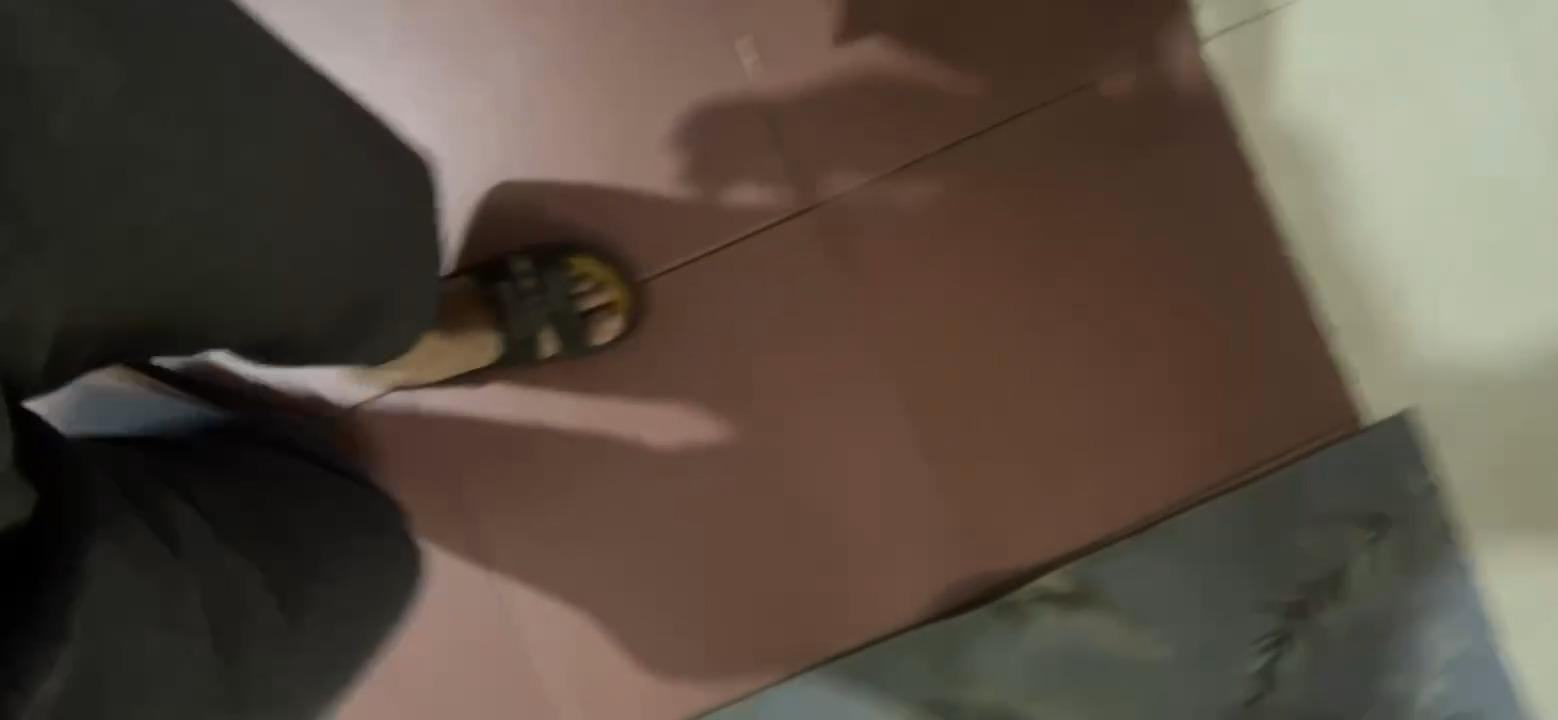no-boot: (345, 234, 666, 399)
